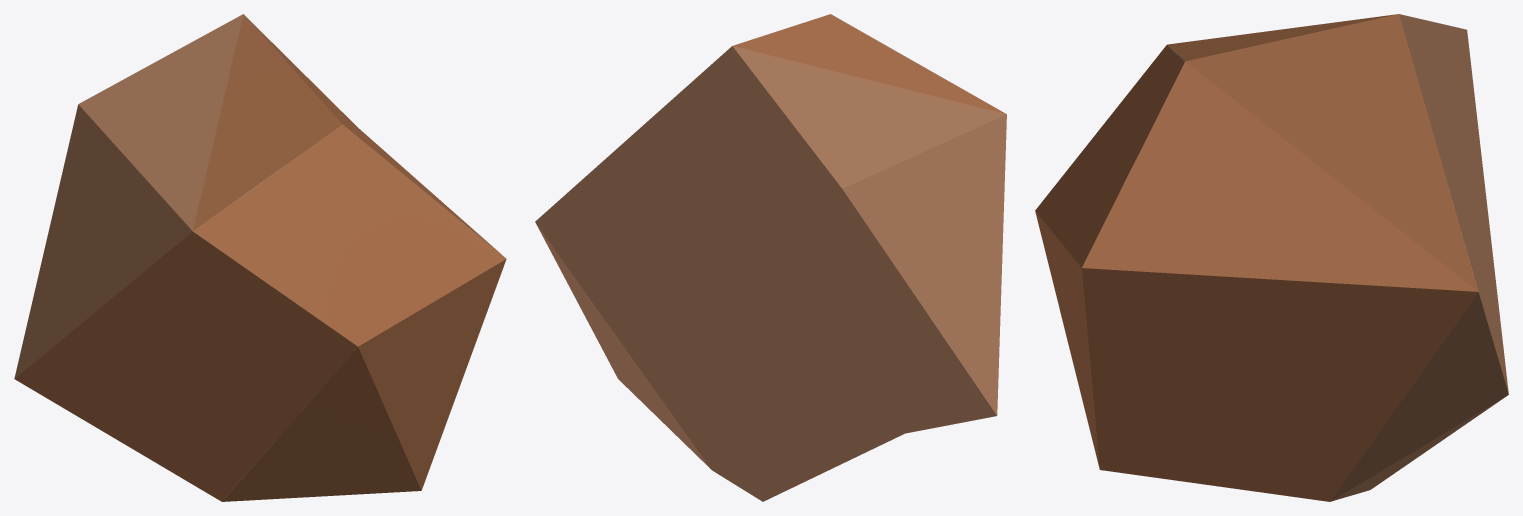
The model's file is planeta-pedaco-3.fbx.
3 views of the same model, side by side, from view 1: azimuth 30°, elevation 25°; view 2: azimuth 150°, elevation 25°; view 3: azimuth 270°, elevation 25° (orthographic). The views are drawn at different scales.
Parts seen in each view (by area): view 1: planeta-pedaco-3; view 2: planeta-pedaco-3; view 3: planeta-pedaco-3.
Part boxes in pixels (box(x1,y1,x2,y2)): planeta-pedaco-3: box(14, 14, 506, 501); planeta-pedaco-3: box(535, 14, 1006, 501); planeta-pedaco-3: box(1035, 14, 1508, 501).
Bounding box in the file's own units: 363 × 388 × 344.
Materials: 1 (1 with a texture image).
